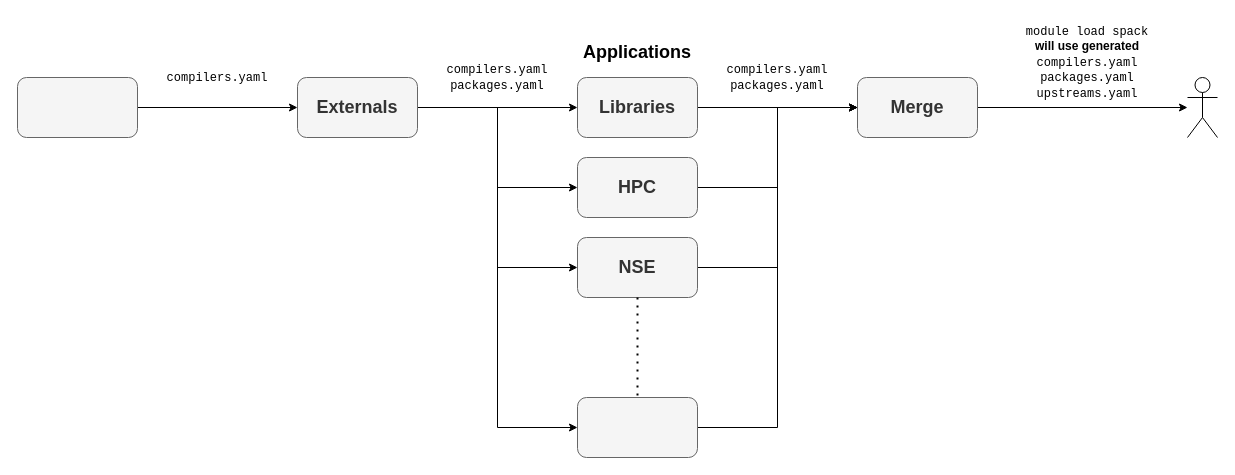
This 1235x475 diagram has some shape labels left out. Here are the shapes that lost their labels. From the top down, the box of each, then its label:
(16, 76, 138, 138): Compilers
(1186, 76, 1218, 138): User
(576, 396, 698, 458): VIZ
